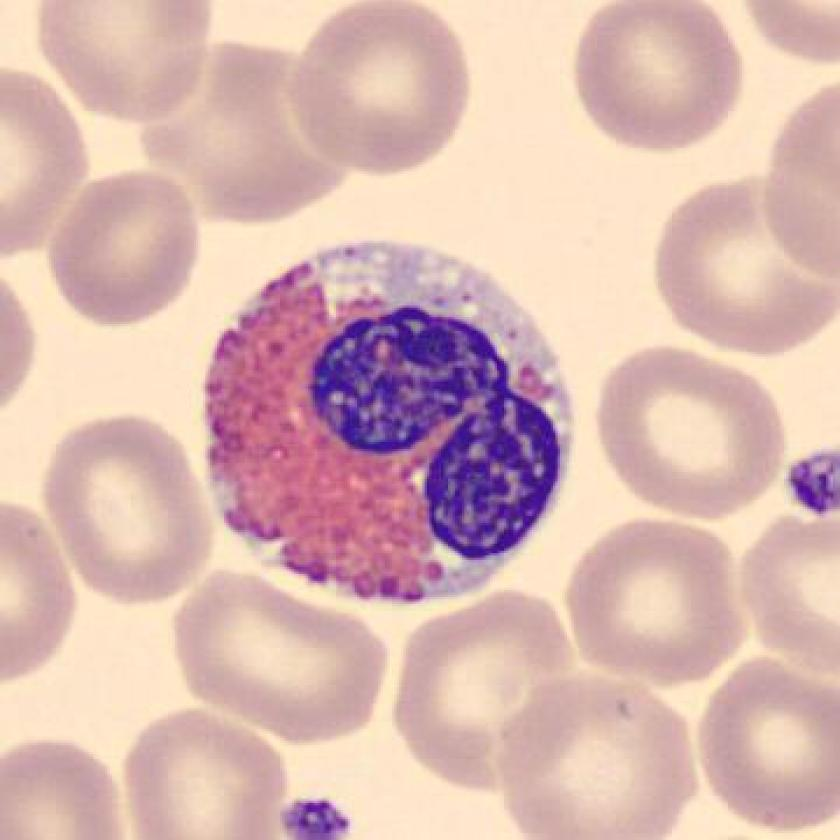eosinophil: (188, 232, 589, 612)
